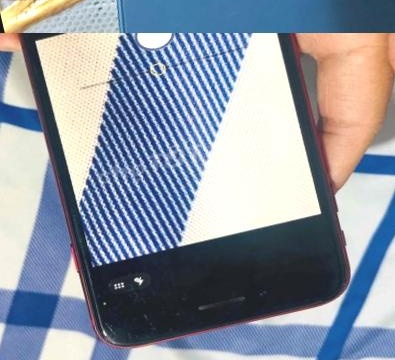scratch: (130, 257, 357, 343), (86, 289, 131, 350)
